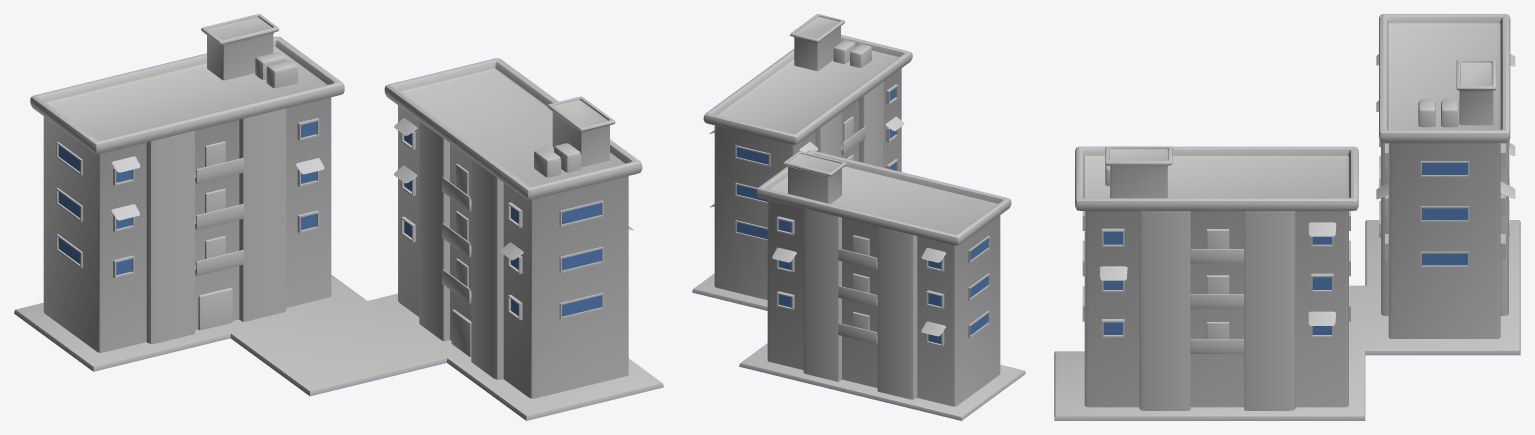
Rendered from edif.fbx.
3 views of the same model, side by side, from view 1: azimuth 30°, elevation 25°; view 2: azimuth 150°, elevation 25°; view 3: azimuth 270°, elevation 25° (orthographic). The views are drawn at different scales.
Visible parts, largest first — view 1: azul, rosa; view 2: azul, rosa; view 3: azul, rosa.
Boxes of the visible parts, x1=… form: azul: x1=30, y1=14, x2=642, y2=398; rosa: x1=14, y1=141, x2=663, y2=420; azul: x1=703, y1=14, x2=1011, y2=406; rosa: x1=692, y1=116, x2=1025, y2=420; azul: x1=1075, y1=14, x2=1515, y2=410; rosa: x1=1054, y1=220, x2=1520, y2=420.
Size of the model in its own units: 300 by 176 by 300.
